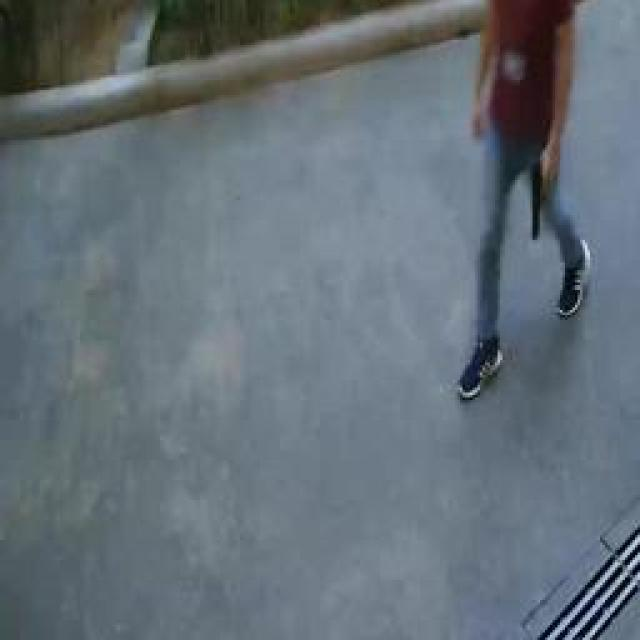Guns: (521, 117, 557, 244)
